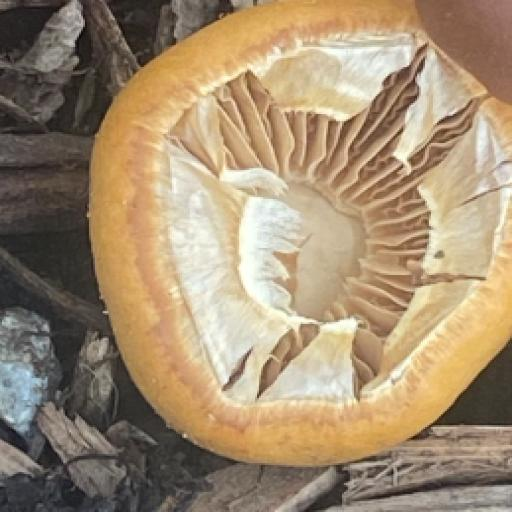Funeral Bell: (85, 0, 512, 466)
